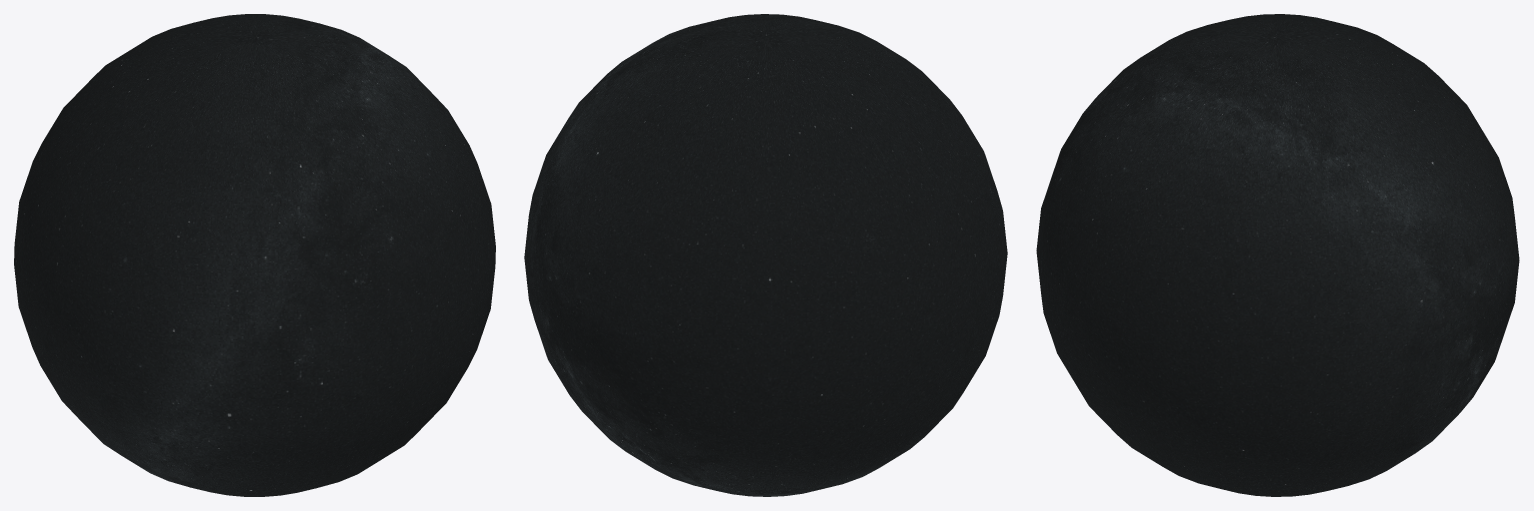
Rendered from Star.gltf.
3 views of the same model, side by side, from view 1: azimuth 30°, elevation 25°; view 2: azimuth 150°, elevation 25°; view 3: azimuth 270°, elevation 25° (orthographic).
Visible parts, largest first — view 1: Sphere.002; view 2: Sphere.002; view 3: Sphere.002.
Boxes of the visible parts, <box> form: Sphere.002: <box>14,14,495,496</box>; Sphere.002: <box>524,14,1007,496</box>; Sphere.002: <box>1036,14,1519,496</box>.
Bounding box in the file's own units: 88.93 × 89.03 × 88.93.
